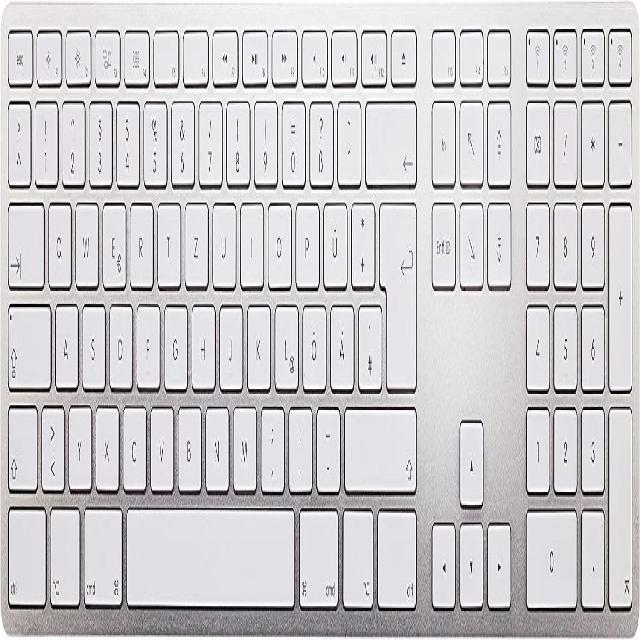0: (280, 92, 305, 183)
1: (33, 93, 57, 182)
2: (60, 94, 84, 184)
3: (87, 92, 111, 183)
4: (115, 93, 139, 182)
5: (141, 94, 166, 184)
6: (169, 92, 194, 182)
7: (197, 94, 221, 184)
8: (224, 94, 249, 184)
9: (252, 94, 277, 184)
a: (53, 294, 77, 386)
accent: (335, 92, 360, 182)
ae: (328, 294, 353, 388)
alt-left: (48, 499, 79, 605)
altgr-right: (341, 503, 374, 611)
b: (176, 397, 200, 487)
c: (121, 397, 145, 489)
caret: (6, 93, 29, 182)
comma: (259, 397, 283, 489)
d: (107, 296, 131, 386)
del: (363, 90, 415, 182)
e: (100, 193, 125, 285)
enter: (376, 188, 416, 388)
f: (135, 296, 159, 386)
g: (162, 296, 186, 387)
h: (190, 296, 214, 387)
hash: (356, 296, 380, 387)
i: (238, 193, 262, 283)
j: (218, 294, 242, 388)
k: (245, 294, 269, 388)
keyboard: (2, 0, 635, 629)
l: (273, 296, 297, 387)
less: (39, 397, 63, 487)
m: (231, 397, 255, 489)
minus: (314, 399, 339, 489)
n: (203, 397, 228, 489)
o: (266, 193, 291, 286)
oe: (300, 296, 325, 387)
p: (294, 193, 318, 285)
plus: (349, 193, 374, 285)
point: (287, 397, 311, 487)
q: (46, 193, 70, 285)
r: (127, 193, 152, 285)
s: (80, 296, 104, 386)
shift-left: (5, 395, 36, 489)
shift-lock: (5, 296, 50, 386)
shift-right: (342, 395, 416, 489)
space: (123, 497, 294, 606)
ss: (308, 94, 333, 184)
strg-left: (5, 497, 45, 603)
strg-right: (375, 500, 417, 610)
t: (155, 193, 180, 283)
tab: (6, 193, 43, 283)
u: (210, 193, 235, 286)
ue: (321, 193, 346, 285)
v: (148, 397, 173, 487)
w: (73, 193, 97, 285)
x: (93, 397, 118, 487)
y: (67, 397, 91, 487)
z: (183, 193, 207, 285)
